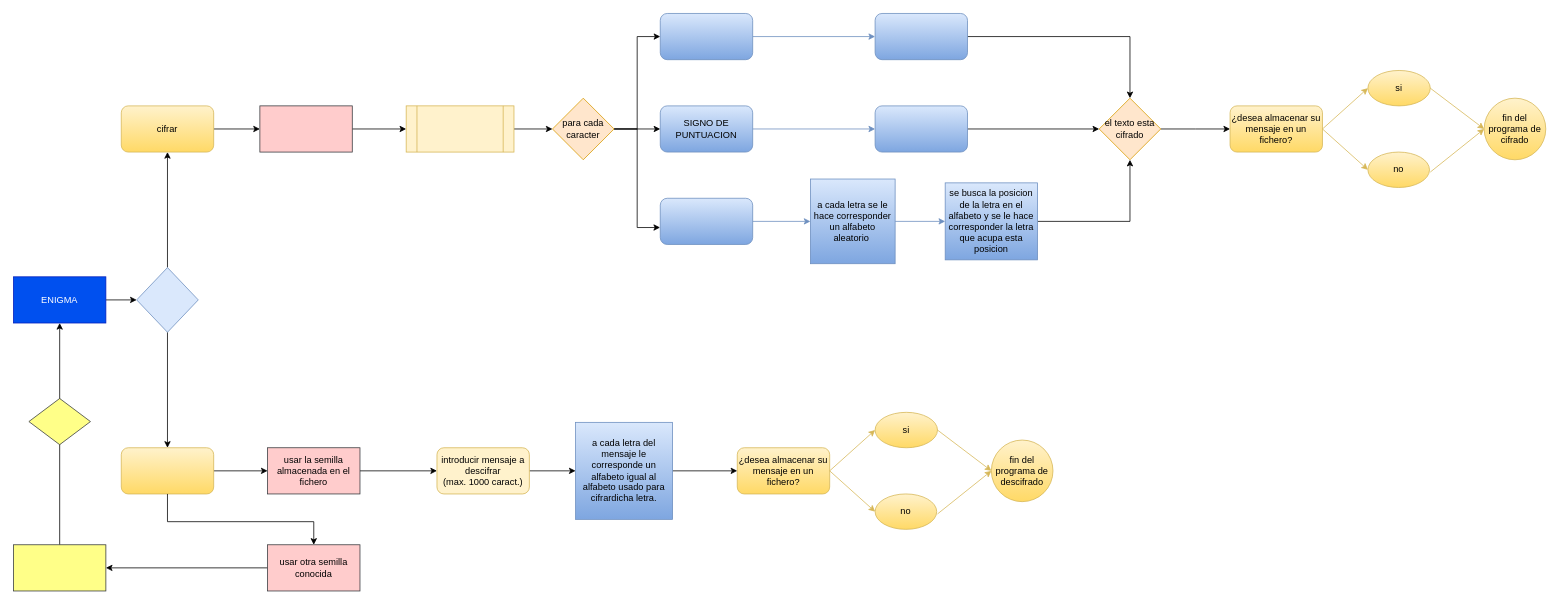
Image size: 1559x604. Some labels were removed from this diagram. The centre of each missing label's shape, as x and y in pixels:
"convertir en /" belongs at (x=921, y=36).
"copiar la semilla conocida en el fichero" belongs at (x=59, y=567).
"descifrar" belongs at (x=167, y=470).
"escoger una opcion" belongs at (x=167, y=299).
"ESPACIO" belongs at (x=706, y=36).
"generar semilla aleatoria" belongs at (x=305, y=128).
"Introducir el texto a cifrar (max. 1000 caract.)" belongs at (x=459, y=128).
"LETRA" belongs at (x=706, y=221).
"reiniciar programa" belongs at (x=59, y=421).
"se quedan igual" belongs at (x=921, y=128).
